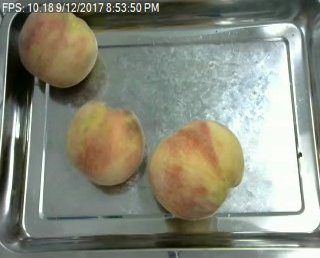Peach: (148, 119, 246, 217), (65, 102, 146, 186), (17, 5, 98, 88)
